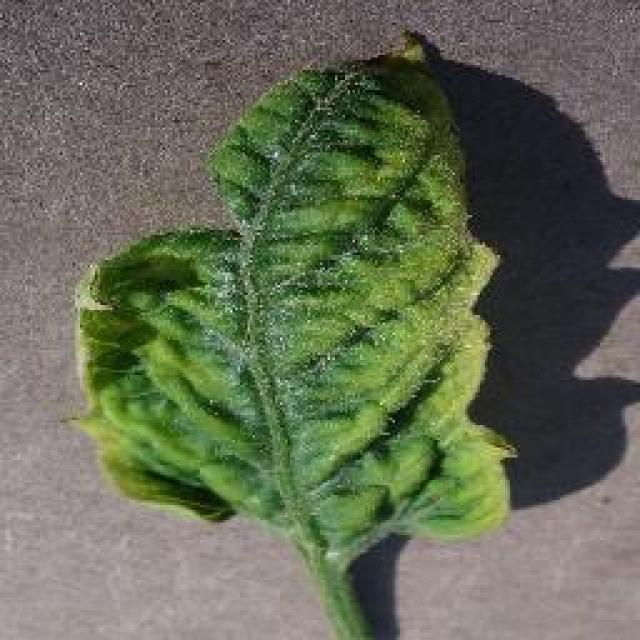Tomato yellow virus leaf: (66, 35, 529, 565)
